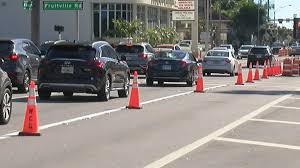car: (37, 42, 130, 102), (1, 36, 44, 92), (146, 50, 202, 86), (203, 49, 241, 77), (1, 65, 13, 124), (247, 46, 274, 68)
cone: (19, 80, 44, 137), (128, 70, 143, 109), (193, 64, 206, 94), (236, 64, 244, 86), (247, 62, 254, 84), (255, 62, 261, 81)
